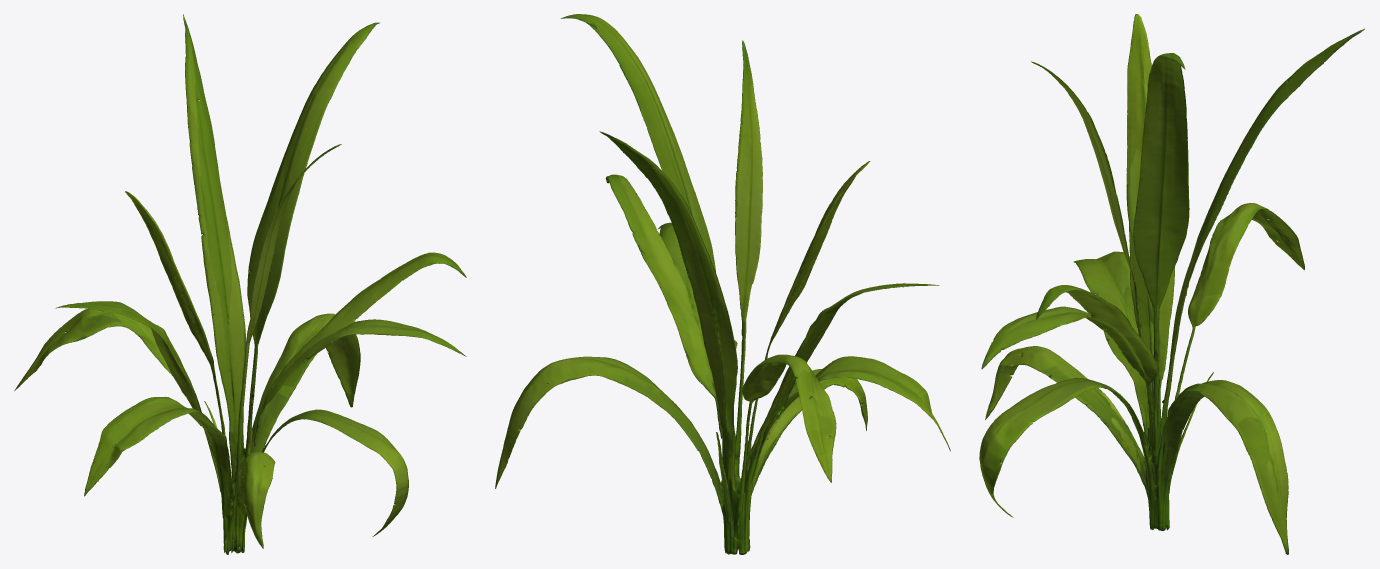
File: Lush_Greenery.glb
3 renders of one model, left to right at view 1: azimuth 30°, elevation 25°; view 2: azimuth 150°, elevation 25°; view 3: azimuth 270°, elevation 25°, orthographic. The views are drawn at different scales.
Bounding box in the file's own units: 1.56 × 1.99 × 1.27.
Materials: 1 (1 with a texture image).
